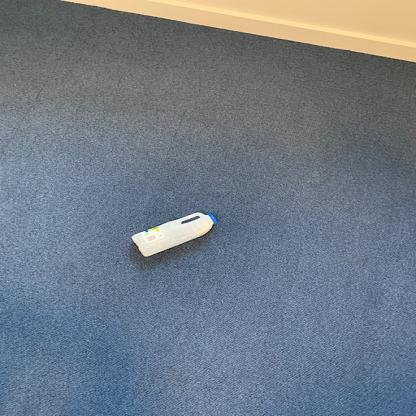trash: (127, 212, 217, 260)
